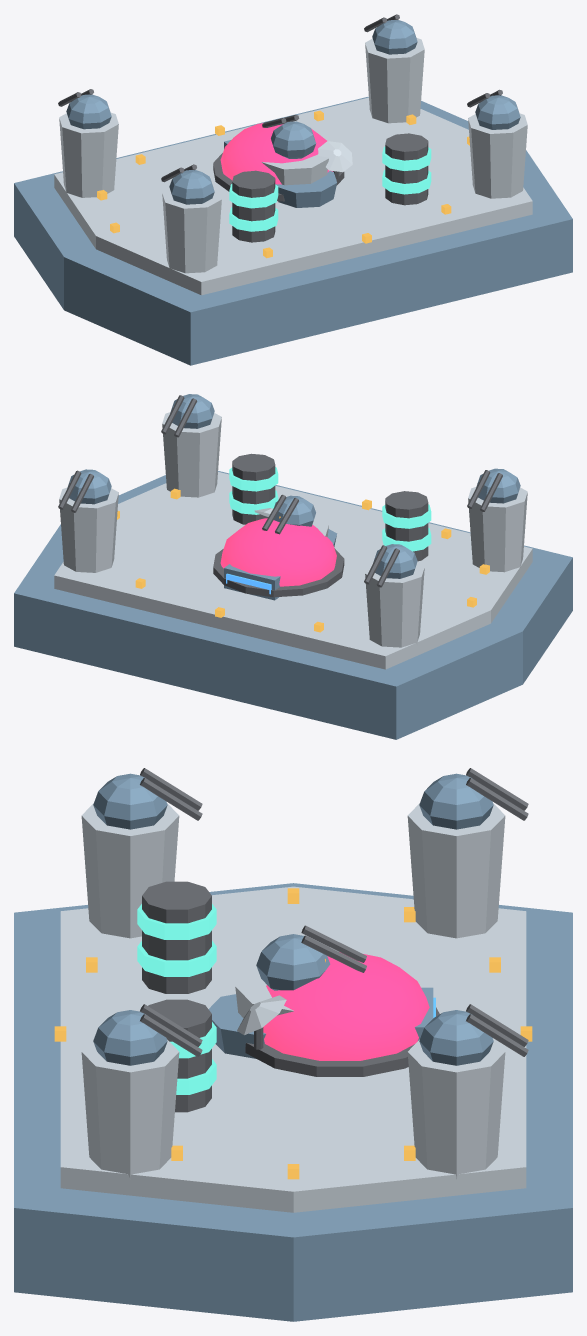
Rendered from loc4.glb.
3 renders of one model, top to bottom at view 1: azimuth 30°, elevation 25°; view 2: azimuth 150°, elevation 25°; view 3: azimuth 270°, elevation 25°, orthographic. The views are drawn at different scales.
Visible parts, largest first — view 1: fortress, part_tower2, part_tower3, part_tower1, part_tower0, part_gen0, part_gen1, part_core.004, part_gun, part_turret, groundgun, part_radar; view 2: fortress, part_core.004, part_tower0, part_tower1, part_tower3, part_tower2, part_gen1, part_gen0, part_gun, part_cab; view 3: fortress, part_core.004, part_tower1, part_tower3, part_tower0, part_tower2, part_gen0, part_gun, part_gen1, part_turret, part_radar, groundgun.
Part boxes in pixels (box(x1,y1,x2,y2)): fortress: box(14, 96, 572, 365); part_tower2: box(161, 164, 221, 273); part_tower3: box(467, 89, 527, 198); part_tower1: box(364, 14, 424, 123); part_tower0: box(58, 89, 118, 197); part_gen0: box(229, 170, 278, 242); part_gen1: box(382, 133, 431, 205); part_core.004: box(213, 123, 344, 201); part_gun: box(262, 115, 316, 158); part_turret: box(275, 170, 336, 207); groundgun: box(261, 154, 328, 185); part_radar: box(318, 141, 352, 178); fortress: box(14, 471, 572, 739); part_core.004: box(213, 518, 344, 597); part_tower0: box(364, 544, 424, 647); part_tower1: box(58, 469, 118, 572); part_tower3: box(161, 394, 221, 497); part_tower2: box(467, 468, 527, 572); part_gen1: box(229, 453, 278, 524); part_gen0: box(382, 491, 431, 561); part_gun: box(262, 494, 315, 534); part_cab: box(224, 564, 280, 600); fortress: box(14, 883, 572, 1321); part_core.004: box(245, 952, 439, 1076); part_tower1: box(407, 1004, 528, 1178); part_tower3: box(81, 1004, 202, 1178); part_tower0: box(407, 768, 528, 938); part_tower2: box(81, 768, 202, 938); part_gen0: box(137, 881, 216, 993); part_gun: box(256, 925, 366, 990); part_gen1: box(148, 999, 216, 1112); part_turret: box(208, 994, 265, 1058); part_radar: box(237, 995, 286, 1049); groundgun: box(235, 968, 293, 1017).
Bounding box in the file's own units: 72 × 24.02 × 48.
